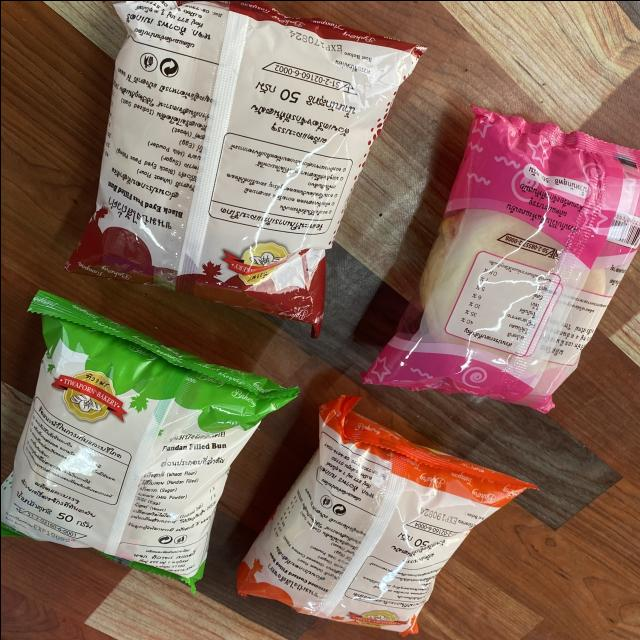plastik: (67, 0, 424, 334), (0, 291, 296, 588), (361, 106, 640, 412), (236, 395, 532, 634)
